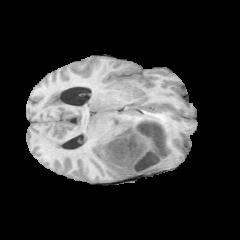glioma: (47, 92, 176, 176)
